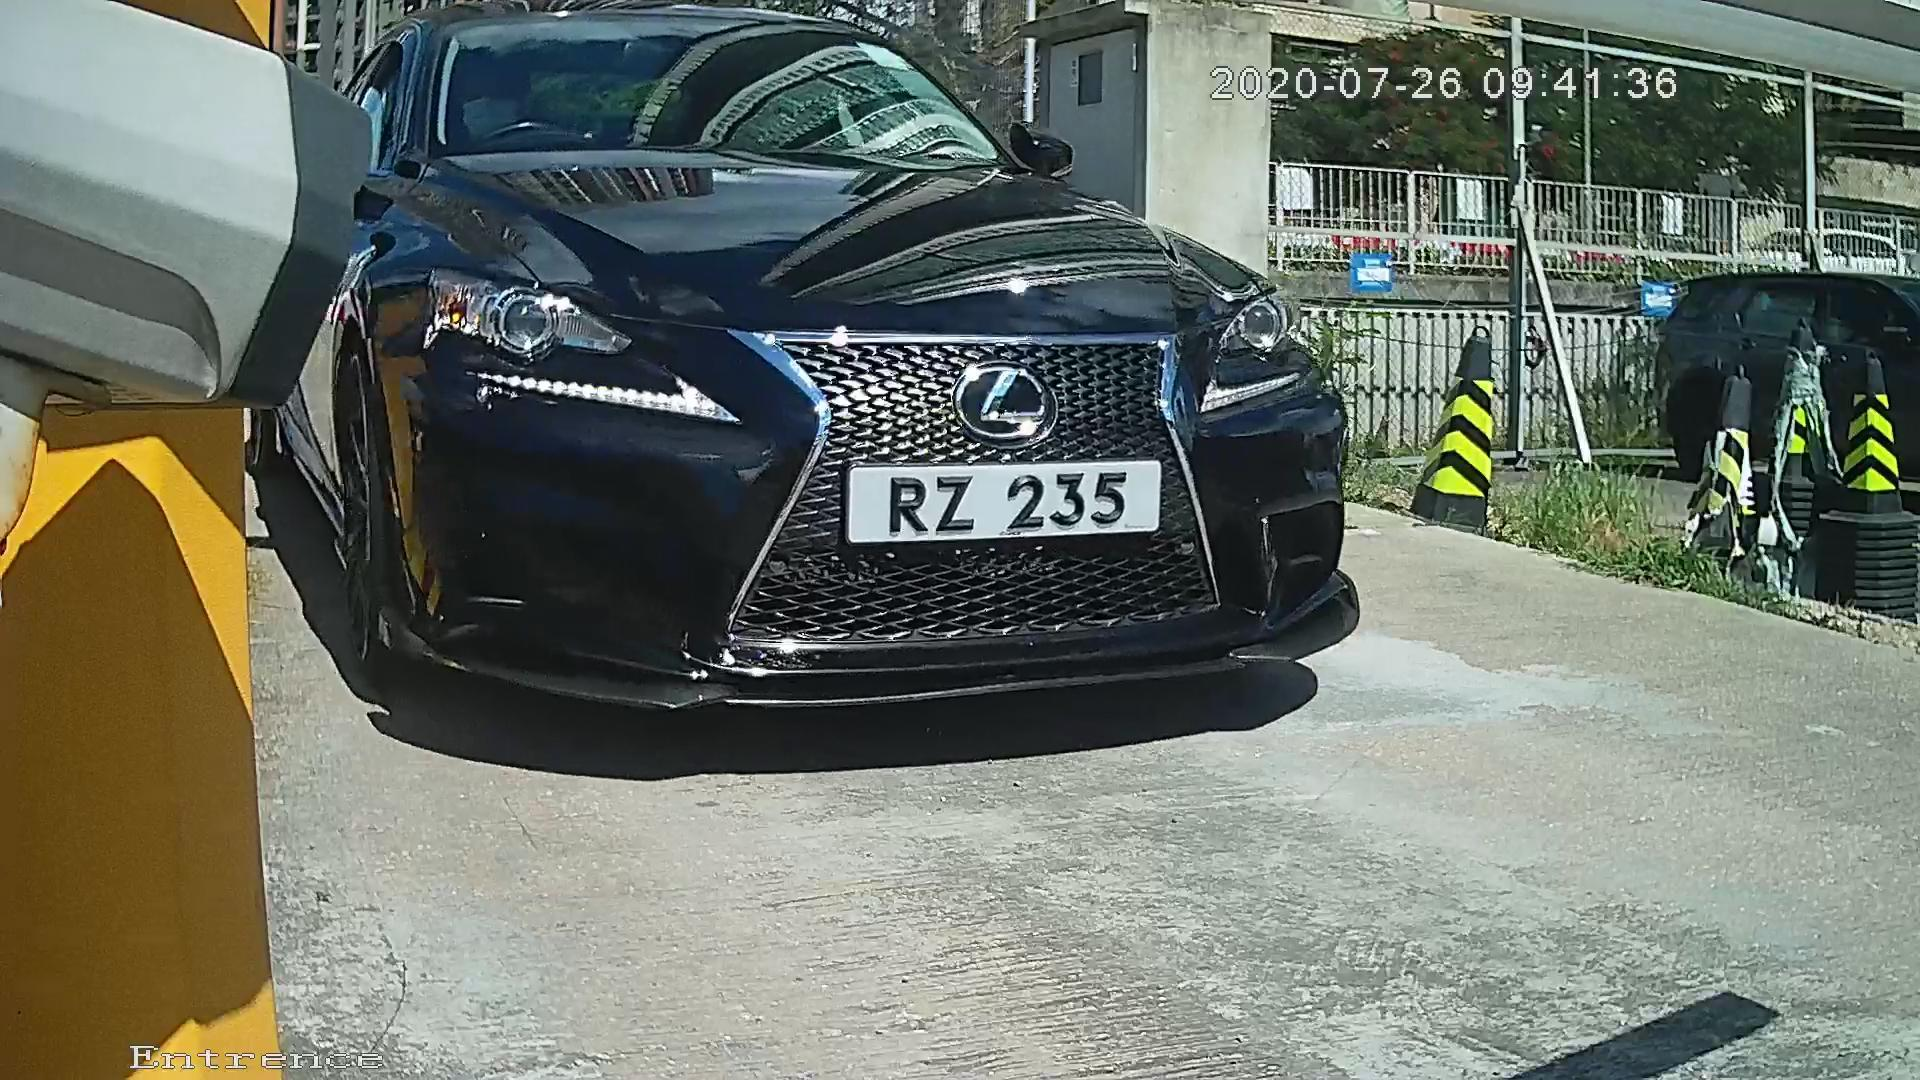privatecar: (223, 11, 1371, 782)
